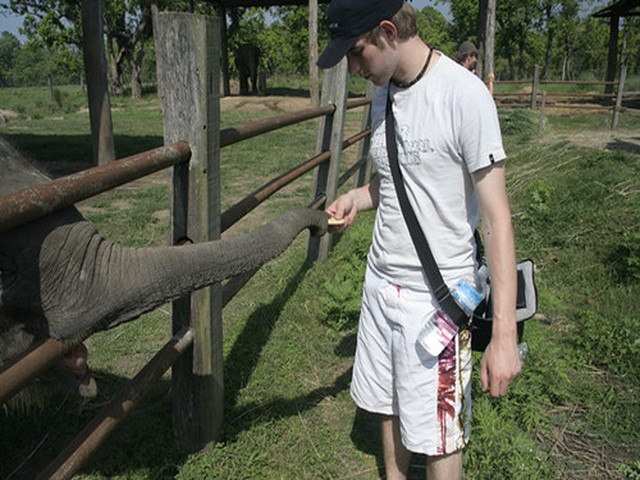Elephant: (1, 136, 329, 399)
Person: (332, 7, 528, 480)
